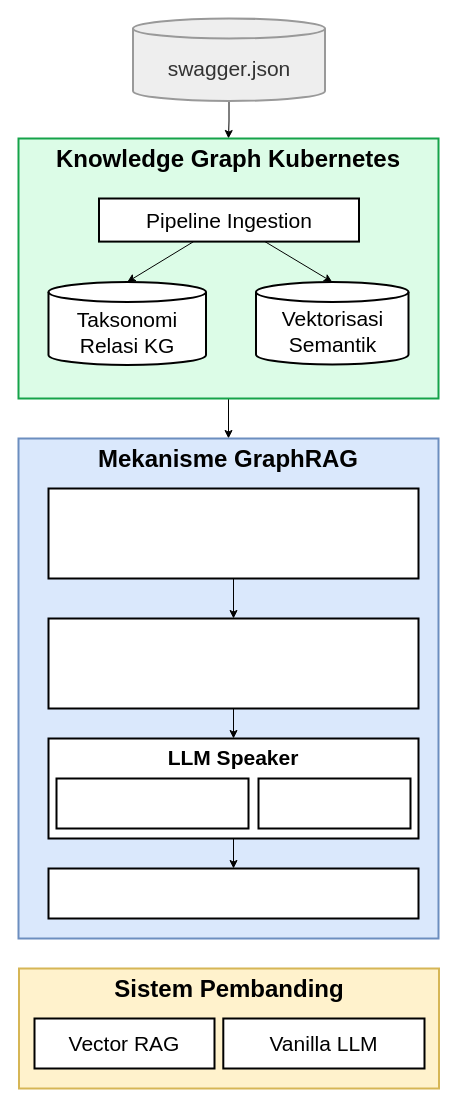
Image size: 457x1106. Some labels were removed from this diagram. The centre of each missing label's shape, as x and y in pixels:
Antarmuka Web interaktif: (x=233, y=893)
Generasi jawaban: (x=152, y=803)
LLM Thinker Klasifikasi Inten & Management Memori: (x=233, y=533)
Retriever Strategi retrieval dan konstruksi konteks: (x=233, y=663)
Validasi YAML: (x=334, y=803)
